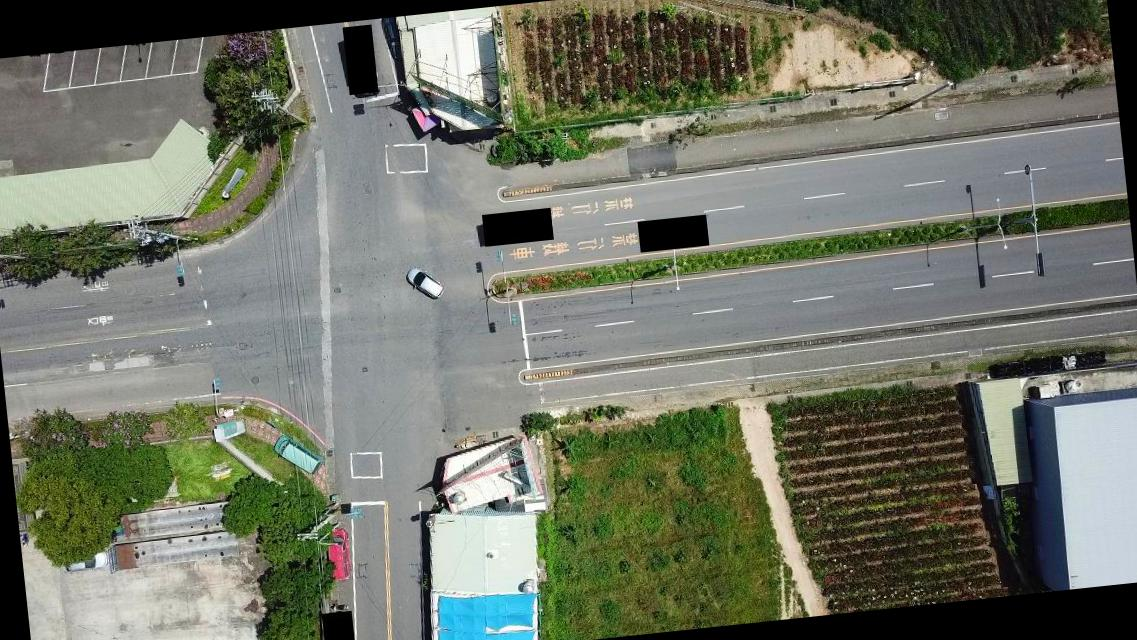vehicle: (270, 430, 326, 476), (321, 526, 352, 584), (404, 261, 444, 300), (60, 550, 112, 574), (380, 18, 401, 56)
